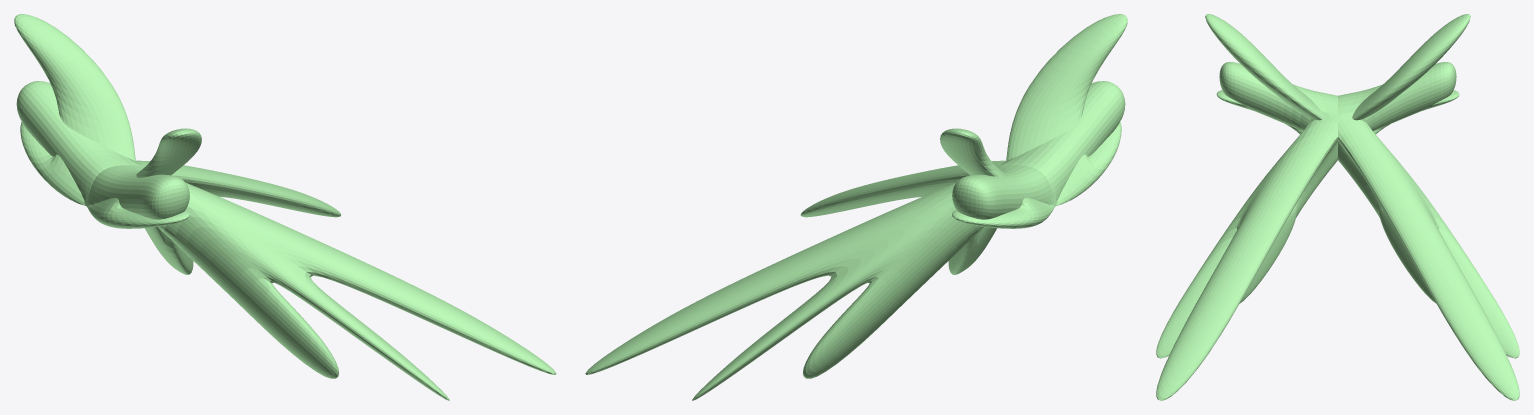
Rendered from Creaturestruc13.obj.
The picture shows the model from 3 angles, left to right: view 1: azimuth 30°, elevation 25°; view 2: azimuth 150°, elevation 25°; view 3: azimuth 270°, elevation 25°; orthographic projection. The views are drawn at different scales.
Visible parts, largest first — view 1: Cube_Cube.014; view 2: Cube_Cube.014; view 3: Cube_Cube.014.
Part boxes in pixels (x1,y1,x2,y2): Cube_Cube.014: [14, 14, 556, 400]; Cube_Cube.014: [585, 14, 1127, 400]; Cube_Cube.014: [1156, 14, 1519, 400].
Bounding box in the file's own units: 15.53 × 12.11 × 16.05.
